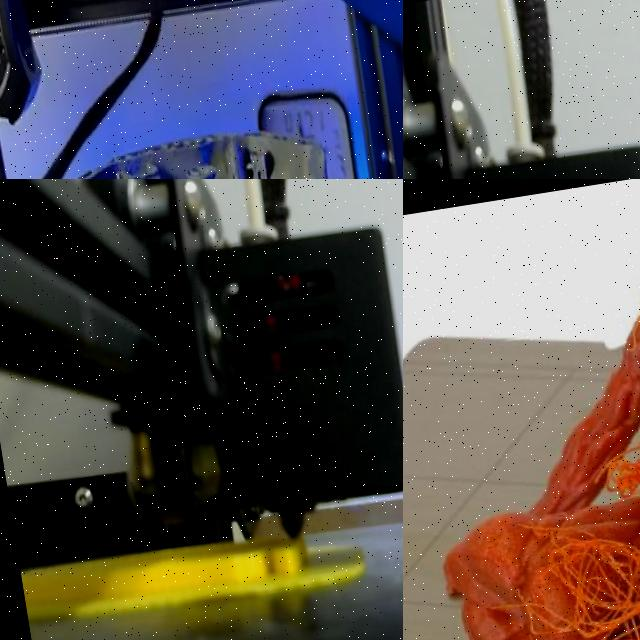spaghetti: (444, 303, 640, 640)
